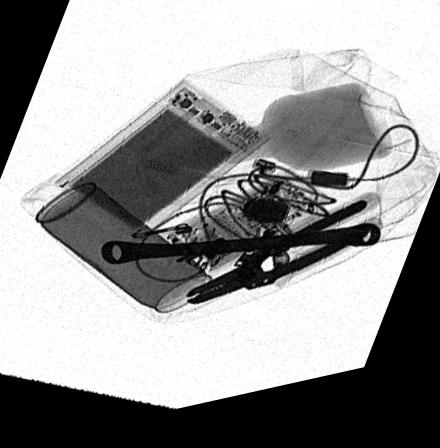Pliers: (187, 216, 372, 312)
Powerbank: (53, 88, 274, 249)
Wrench: (99, 240, 382, 271)
